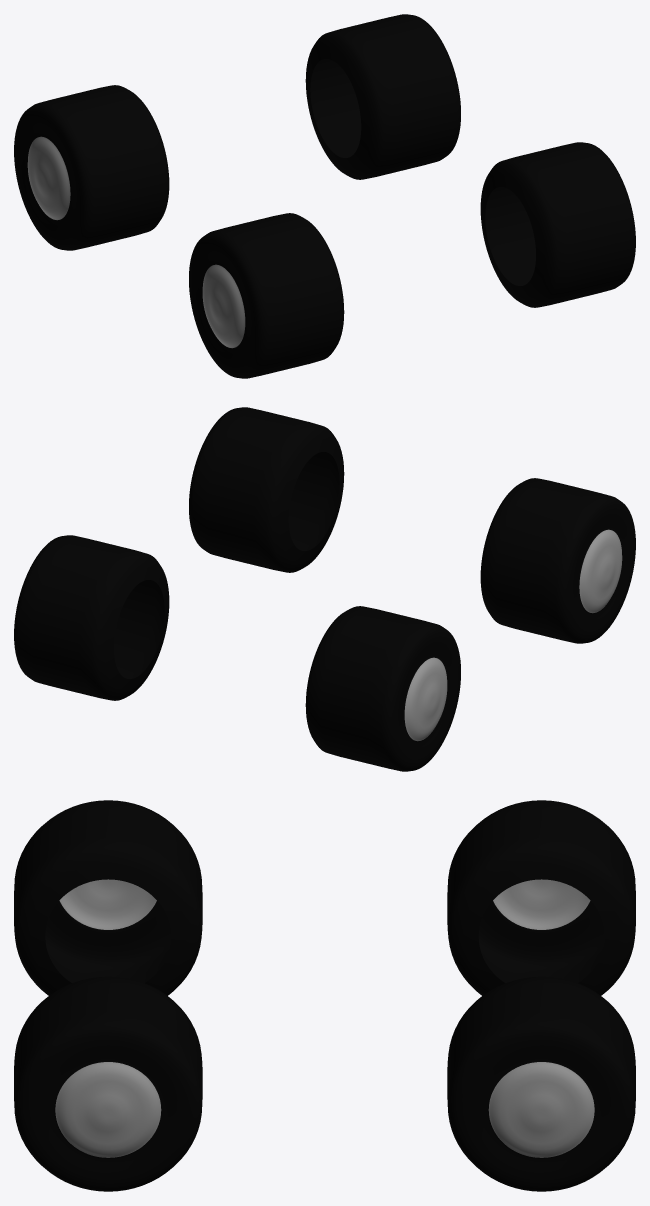
The model's file is Roda.glb.
3 views of the same model, one above another, from view 1: azimuth 30°, elevation 25°; view 2: azimuth 150°, elevation 25°; view 3: azimuth 270°, elevation 25° (orthographic). The views are drawn at different scales.
Parts seen in each view (by area): view 1: Roda_Traseira_Dir, Roda_Dianteira_Esq, Roda_Traseira_Esq, Roda_Dianteira_Dir; view 2: Roda_Traseira_Esq, Roda_Dianteira_Dir, Roda_Traseira_Dir, Roda_Dianteira_Esq; view 3: Roda_Traseira_Esq, Roda_Dianteira_Esq, Roda_Dianteira_Dir, Roda_Traseira_Dir.
Part boxes in pixels (x1,y1,x2,y2): Roda_Traseira_Dir: [14, 85, 169, 250]; Roda_Dianteira_Esq: [480, 142, 635, 307]; Roda_Traseira_Esq: [305, 14, 460, 179]; Roda_Dianteira_Dir: [189, 213, 344, 378]; Roda_Traseira_Esq: [14, 535, 169, 700]; Roda_Dianteira_Dir: [480, 478, 635, 643]; Roda_Traseira_Dir: [305, 606, 460, 771]; Roda_Dianteira_Esq: [189, 407, 344, 572]; Roda_Traseira_Esq: [447, 976, 635, 1191]; Roda_Dianteira_Esq: [14, 976, 202, 1191]; Roda_Dianteira_Dir: [14, 800, 202, 995]; Roda_Traseira_Dir: [447, 800, 635, 995].
Size of the model in its own units: 2.36 by 0.7959 by 2.63.
Materials: 1 (1 with a texture image).
